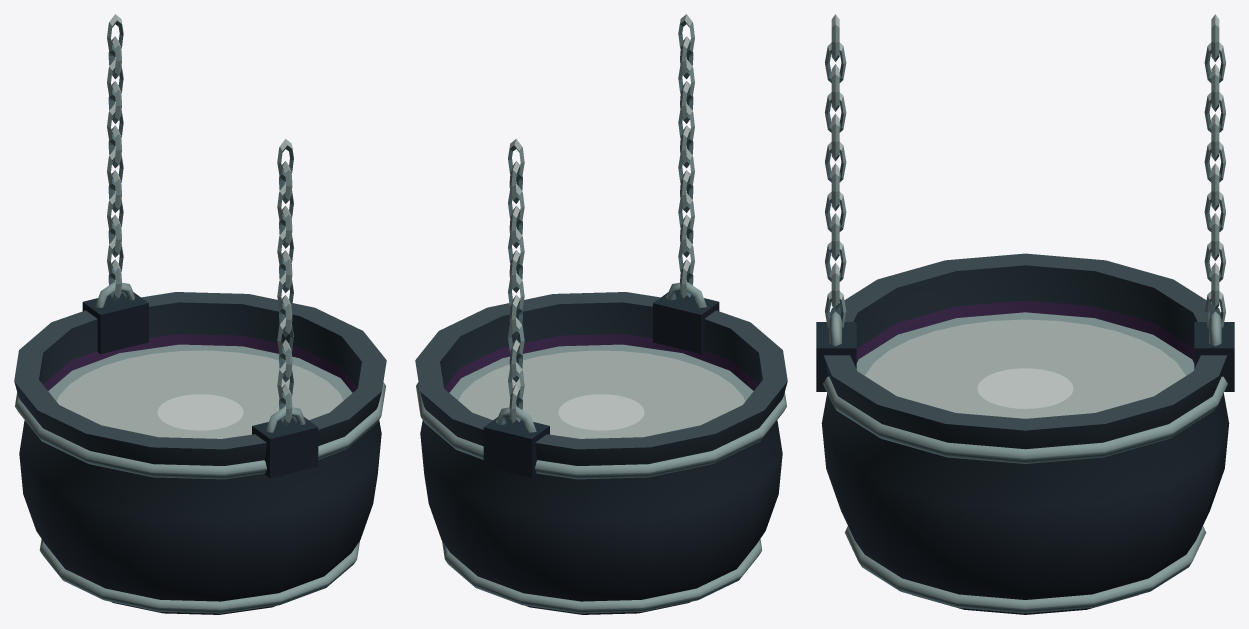
The model's file is cauldron.fbx.
3 renders of one model, left to right at view 1: azimuth 30°, elevation 25°; view 2: azimuth 150°, elevation 25°; view 3: azimuth 270°, elevation 25°, orthographic. The views are drawn at different scales.
Visible parts, largest first — view 1: Cauldron, Liquid, Chains, MetalBandTop, MetalBandBottom, HandleRight, HandleLeft; view 2: Cauldron, Liquid, Chains, MetalBandTop, MetalBandBottom, HandleLeft, HandleRight; view 3: Cauldron, Liquid, Chains, MetalBandTop, MetalBandBottom, HandleRight, HandleLeft.
Boxes of the visible parts, x1,y1,x2,y2 form: Cauldron: (14,292,386,614); Liquid: (48,344,352,438); Chains: (107,14,293,426); MetalBandTop: (15,382,385,479); MetalBandBottom: (39,539,359,613); HandleRight: (252,417,318,478); HandleLeft: (82,292,148,354); Cauldron: (415,292,787,614); Liquid: (449,344,753,438); Chains: (508,14,694,426); MetalBandTop: (416,382,786,479); MetalBandBottom: (442,539,762,613); HandleLeft: (483,417,549,478); HandleRight: (653,292,719,354); Cauldron: (821,253,1229,614); Liquid: (856,312,1194,418); Chains: (825,14,1225,329); MetalBandTop: (823,376,1227,463); MetalBandBottom: (844,526,1206,613); HandleRight: (816,322,856,391); HandleLeft: (1194,322,1234,391).
Bounding box in the file's own units: 261 × 388 × 261.
